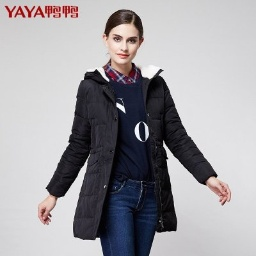face: (94, 7, 154, 71)
